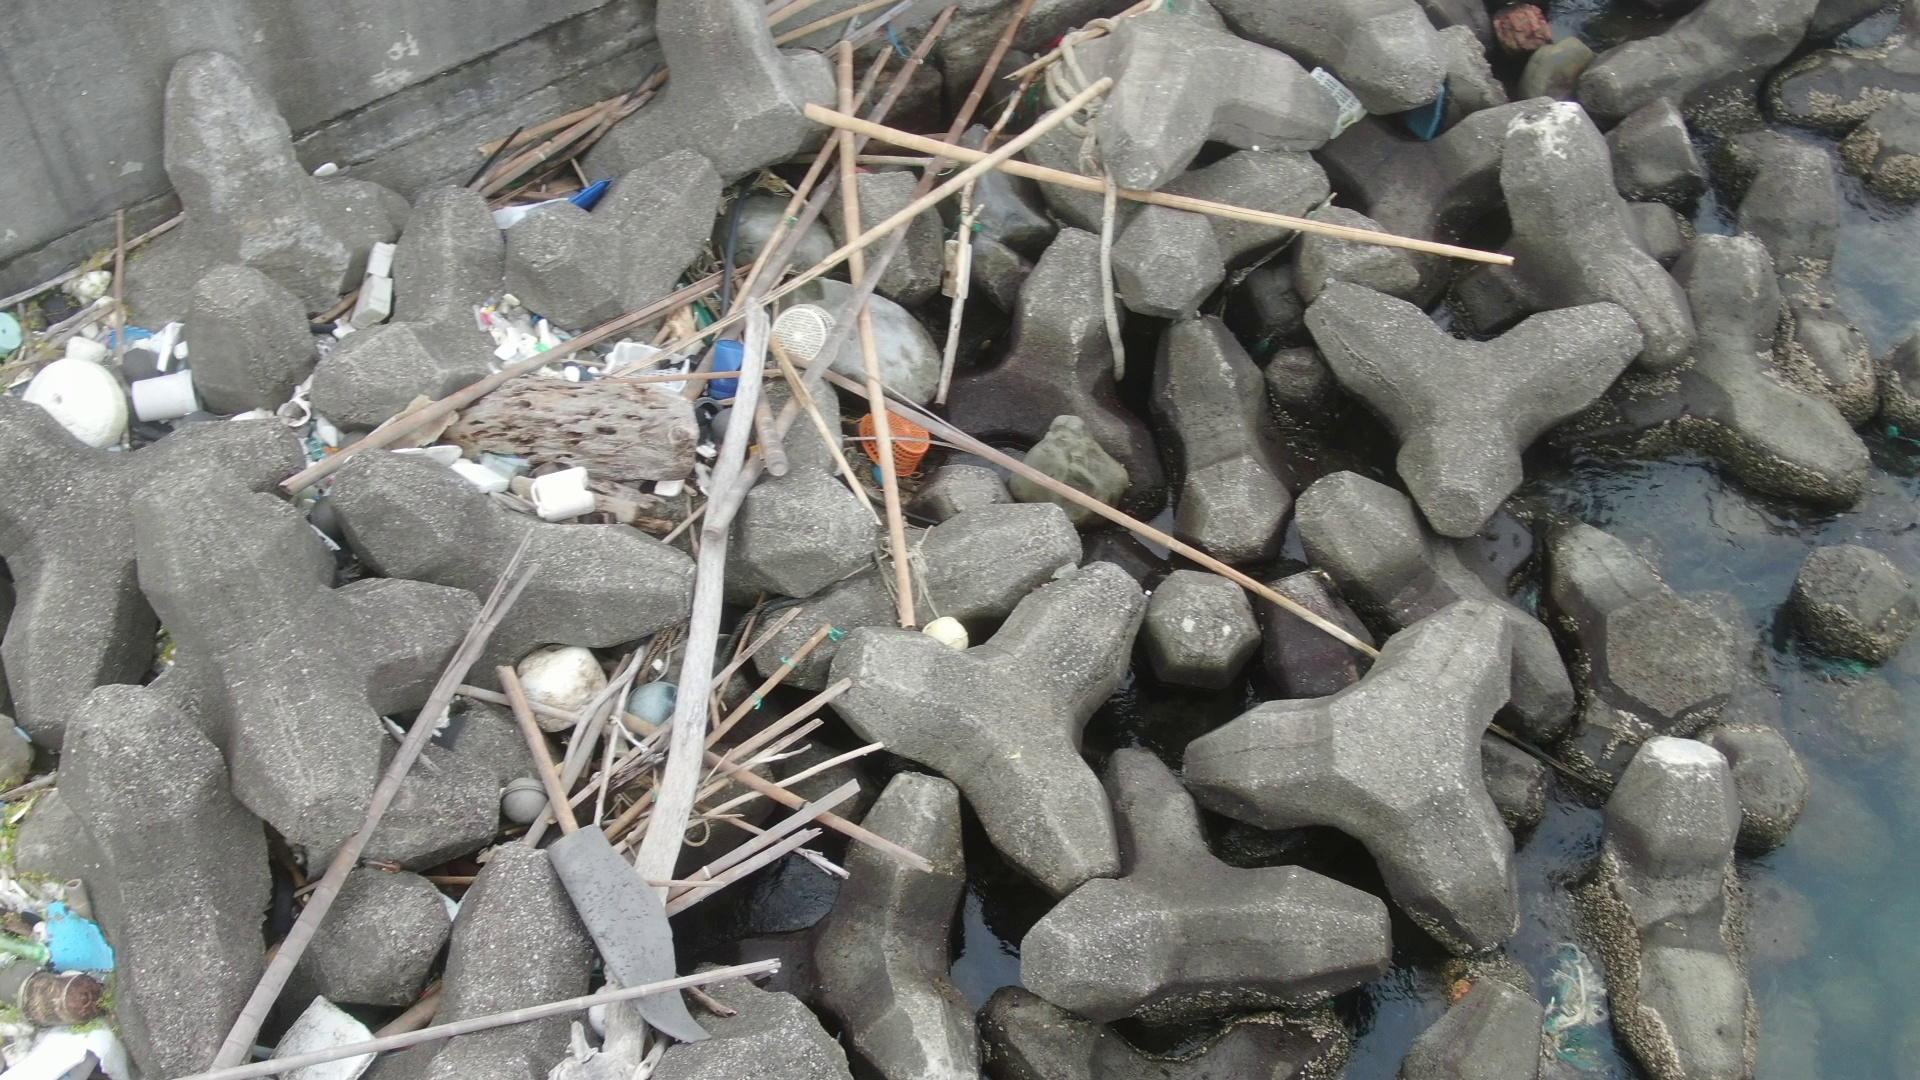garbage: (464, 286, 687, 524), (549, 818, 727, 1051), (1, 268, 207, 456), (1, 858, 136, 1073), (696, 291, 841, 419), (258, 985, 402, 1080), (545, 956, 645, 1080), (852, 382, 952, 497), (480, 161, 620, 243), (258, 376, 352, 469), (336, 227, 407, 344), (1295, 51, 1386, 142), (621, 667, 688, 738), (1402, 76, 1461, 156), (914, 597, 971, 654), (498, 770, 549, 825)
